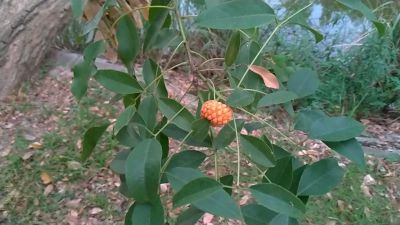eggs: (195, 96, 232, 131)
